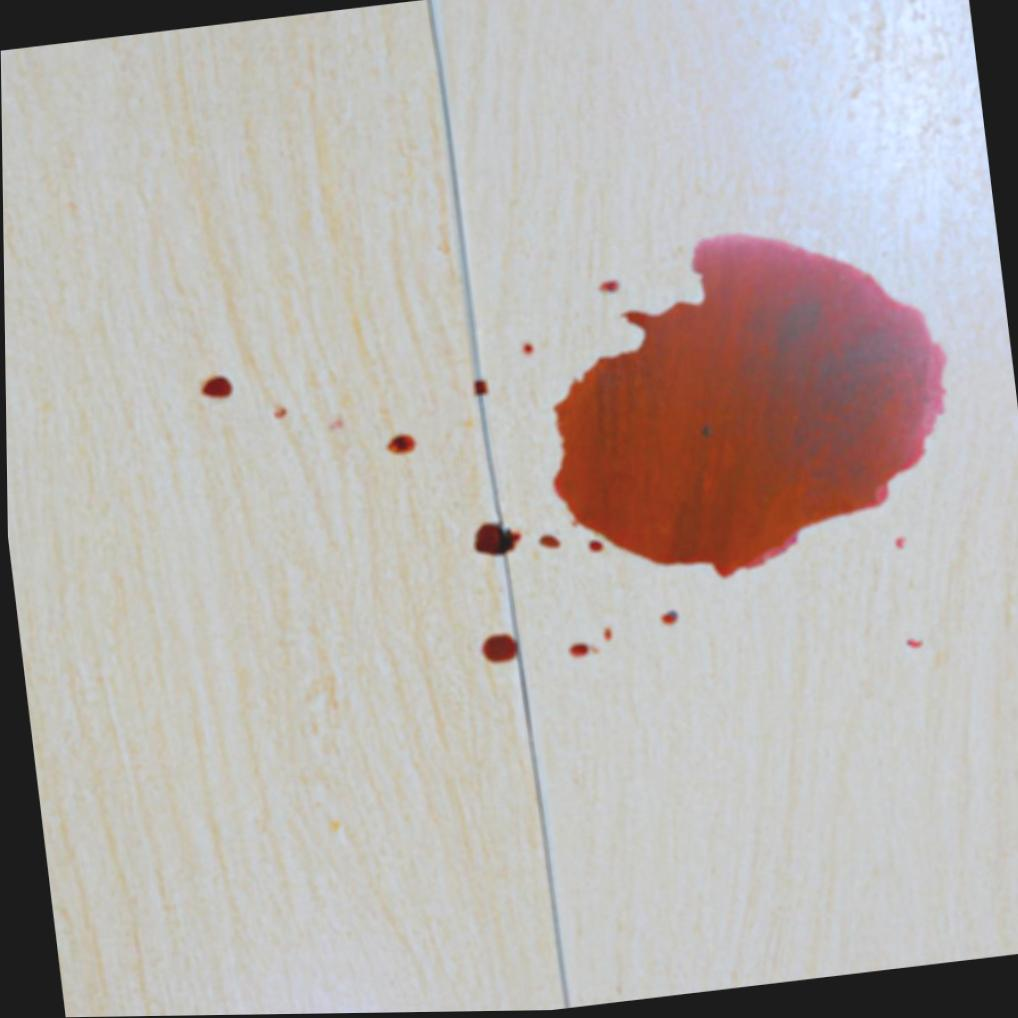Fire: (550, 236, 946, 582), (472, 525, 519, 558), (479, 636, 516, 666), (200, 377, 231, 399), (385, 436, 415, 456), (537, 537, 560, 551), (566, 646, 587, 660), (586, 542, 602, 554)
